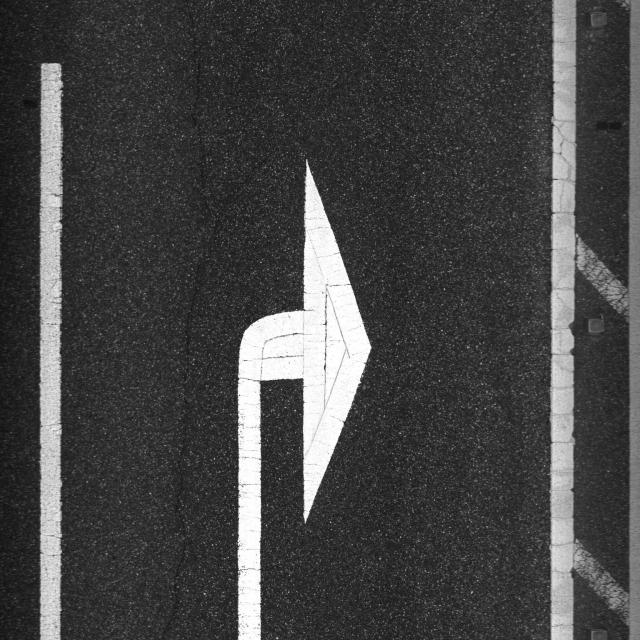right: (28, 79, 580, 640)
